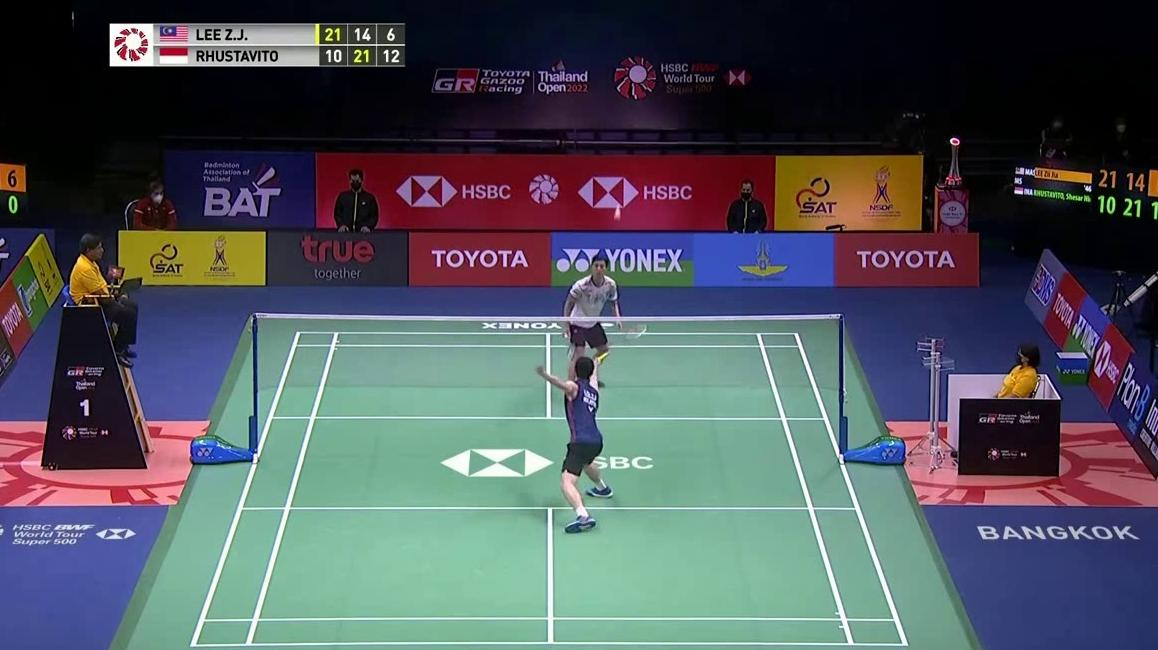racket: (595, 323, 649, 361), (562, 330, 577, 362)
shuttle: (612, 202, 624, 224)
